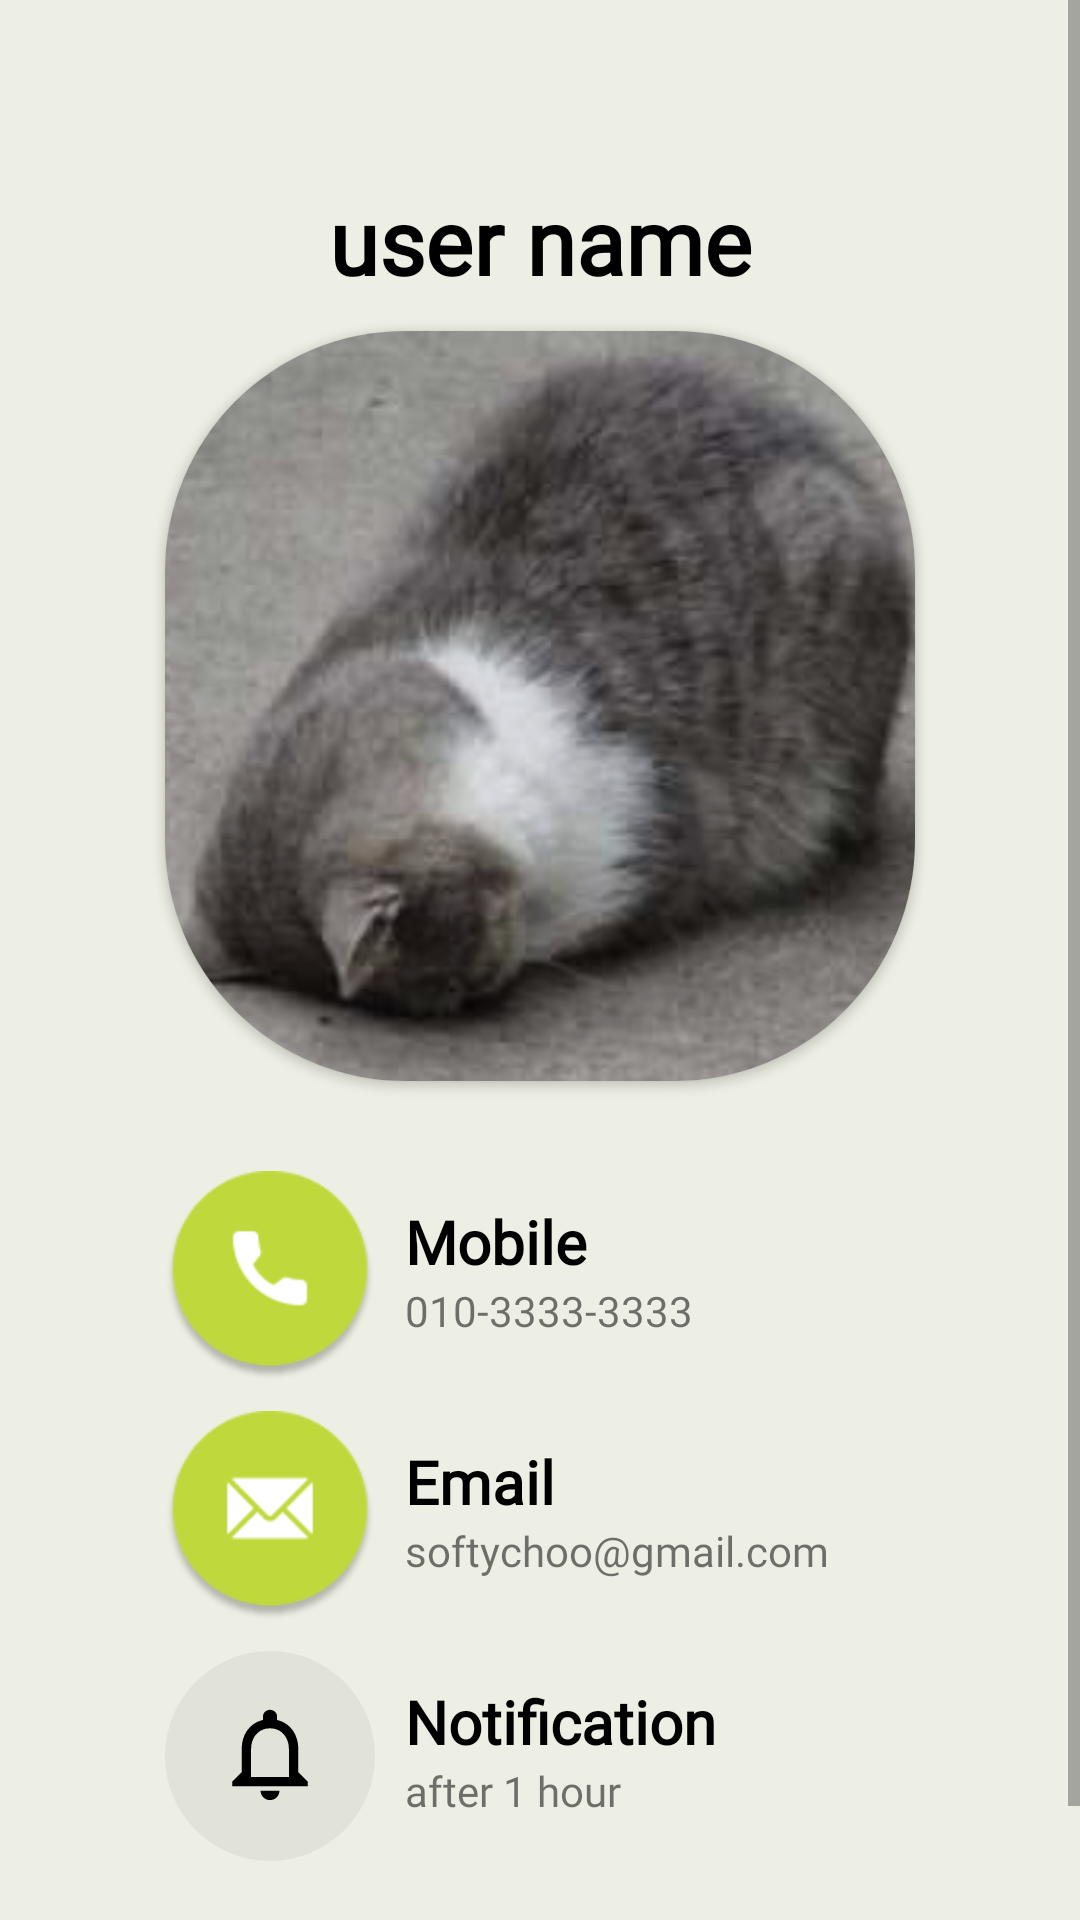

Screen size 1080 x 1920. Icon name, then its center in pixels as point (x, y):
call: point (270, 1272)
message: point (270, 1512)
